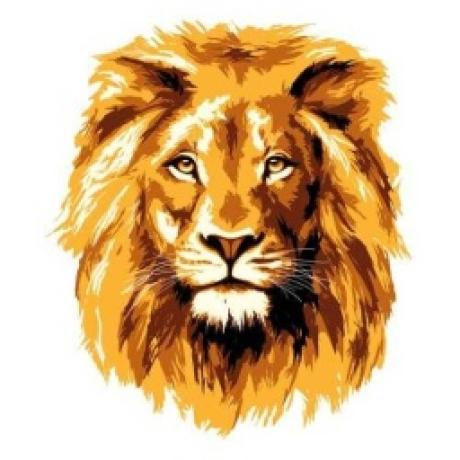Lion: (55, 16, 411, 434)
